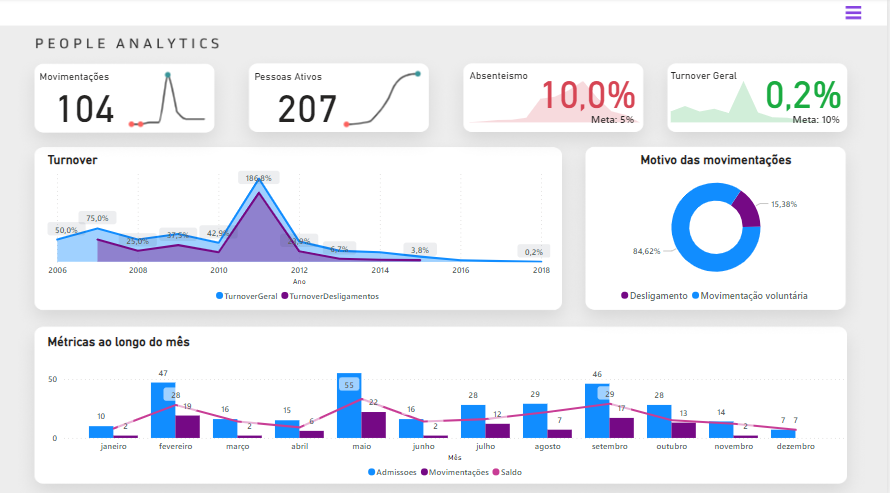

Layout of this report page (visuals, bound fields, positions):
{"tool":"powerbi","page":{"name":"Relatório","canvas":[1280,720],"ordinal":0},"visuals":[{"type":"donutChart","title":"Motivo das movimentações","fields":{"Category":["Tb_contratacoes.Status"],"Y":["CountNonNull(Tb_contratacoes.Status)"]},"box":[841.6,221.7,383,225.1],"z":0},{"type":"PBI_CV_25997FEB_F466_44FA_B562_AC4063283C4C","fields":{"measure":["Medidas.Movimentações"],"axis":["Tb_contratacoes.DataContratacao.Variation.Hierarquia de datas.Ano"]},"box":[173,94.1,144.5,99.1],"z":1000},{"type":"PBI_CV_25997FEB_F466_44FA_B562_AC4063283C4C","fields":{"measure":["Medidas.ColaboradoresAtivos"],"axis":["Tb_contratacoes.DataContratacao.Variation.Hierarquia de datas.Ano"]},"box":[482.1,92.4,142.8,100.8],"z":2000},{"type":"lineClusteredColumnComboChart","title":"Métricas ao longo do mês","fields":{"Category":["Tb_contratacoes.DataContratacao.Variation.Hierarquia de datas.Mês"],"Y":["Medidas.Admissoes","Medidas.Movimentações"],"Y2":["Medidas.Saldo"]},"box":[65.5,483.8,1159.1,216.7],"z":3000},{"type":"areaChart","title":"Turnover","fields":{"Category":["Tb_contratacoes.DataContratacao.Variation.Hierarquia de datas.Ano"],"Y":["Medidas.TurnoverGeral","Medidas.TurnoverDesligamentos"]},"box":[65.5,221.7,734.1,225.1],"z":4000},{"type":"kpi","title":"Absenteismo","fields":{"Indicator":["Medidas.Absenteismo"],"TrendLine":["Tb_contratacoes.DataContratacao.Variation.Hierarquia de datas.Ano"],"Goal":["Medidas.MetaAbsenteismo"]},"box":[671.9,104.1,255.3,80.6],"z":5000},{"type":"kpi","title":"Turnover Geral","fields":{"Indicator":["Medidas.TurnoverGeral"],"TrendLine":["Tb_contratacoes.DataContratacao.Variation.Hierarquia de datas.Ano"],"Goal":["Medidas.MetaTurnoverGeral"]},"box":[962.5,104.1,262,80.6],"z":6000},{"type":"card","title":"Movimentações","fields":{"Values":["Medidas.Movimentações"]},"box":[53.8,105.8,139.4,79],"z":7000},{"type":"card","title":"Pessoas Ativos","fields":{"Values":["Medidas.ColaboradoresAtivos"]},"box":[362.8,105.8,161.3,79],"z":8000},{"type":"actionButton","box":[1181.7,0,98.3,43.3],"z":11000}]}

Visuals, with their boxes in screenshot pixels (x1, y1, x2, y2), scaled from the page's 1280x720 canvas onto the 890x493 screenshot:
"Motivo das movimentações" donutChart: [x1=585, y1=152, x2=851, y2=306]
PBI_CV_25997FEB_F466_44FA_B562_AC4063283C4C - Medidas.Movimentações x Tb_contratacoes.DataContratacao.Variation.Hierarquia de datas.Ano: [x1=120, y1=64, x2=221, y2=132]
PBI_CV_25997FEB_F466_44FA_B562_AC4063283C4C - Medidas.ColaboradoresAtivos x Tb_contratacoes.DataContratacao.Variation.Hierarquia de datas.Ano: [x1=335, y1=63, x2=435, y2=132]
"Métricas ao longo do mês" lineClusteredColumnComboChart: [x1=46, y1=331, x2=851, y2=480]
"Turnover" areaChart: [x1=46, y1=152, x2=556, y2=306]
"Absenteismo" kpi: [x1=467, y1=71, x2=645, y2=126]
"Turnover Geral" kpi: [x1=669, y1=71, x2=851, y2=126]
"Movimentações" card: [x1=37, y1=72, x2=134, y2=127]
"Pessoas Ativos" card: [x1=252, y1=72, x2=364, y2=127]
actionButton: [x1=822, y1=0, x2=889, y2=30]
